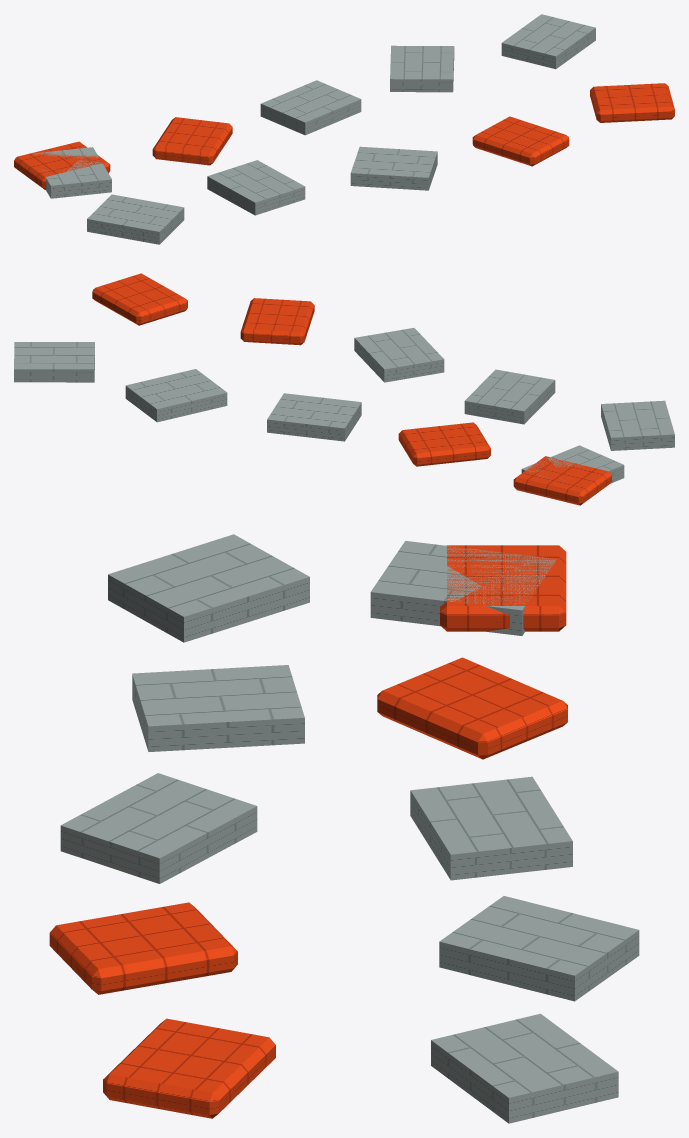
File: terrain-rubble-2x1.glb
3 views of the same model, one above another, from view 1: azimuth 30°, elevation 25°; view 2: azimuth 150°, elevation 25°; view 3: azimuth 270°, elevation 25° (orthographic). The views are drawn at different scales.
Visible parts, largest first — view 1: terrain-rubble-2x1; view 2: terrain-rubble-2x1; view 3: terrain-rubble-2x1.
Boxes of the visible parts, left/top/right/bottom form: terrain-rubble-2x1: left=14, top=14, right=674, bottom=244; terrain-rubble-2x1: left=14, top=273, right=674, bottom=505; terrain-rubble-2x1: left=49, top=534, right=639, bottom=1123.
Bounding box in the file's own units: 1.69 × 0.036 × 0.7476.
1 material, 1 textured.
